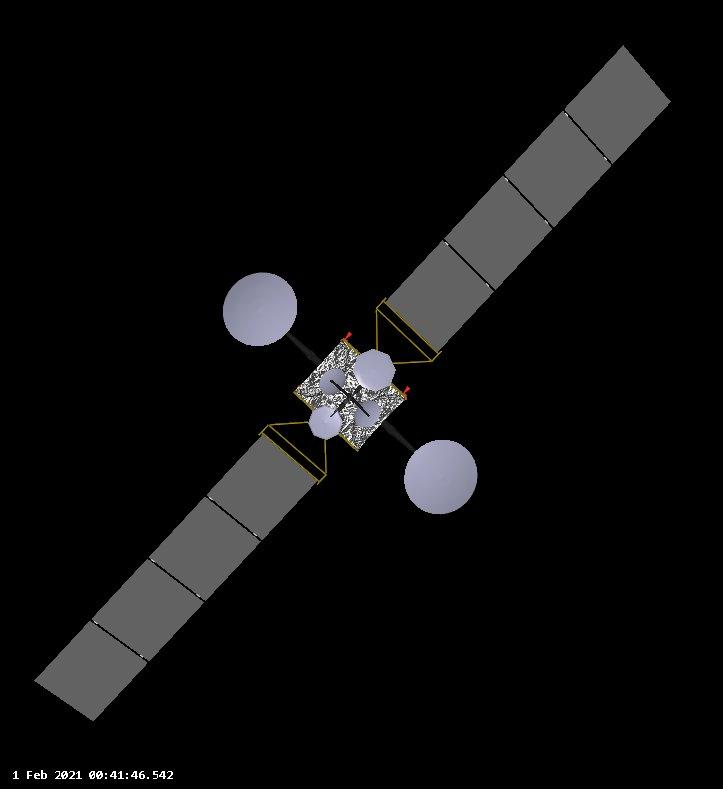antenna: (220, 270, 300, 348), (401, 438, 480, 516), (351, 347, 398, 393), (306, 404, 345, 442), (352, 398, 384, 430), (318, 366, 347, 397)
body: (290, 334, 410, 455)
solar: (383, 42, 675, 354), (26, 431, 320, 724)
